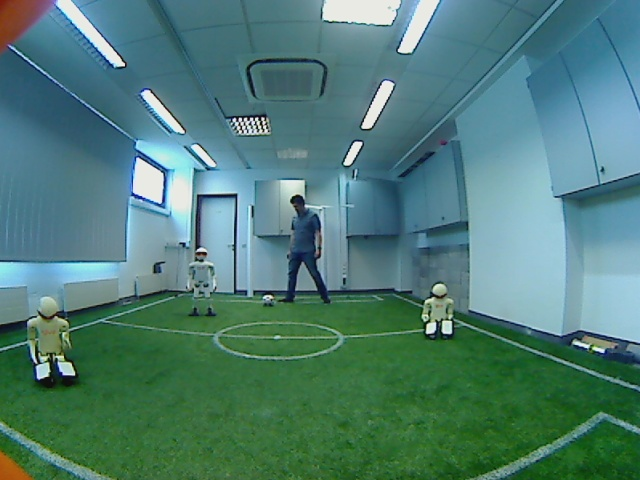ball: (257, 289, 279, 309)
robot: (19, 291, 88, 387), (413, 281, 461, 347), (184, 243, 220, 322)
